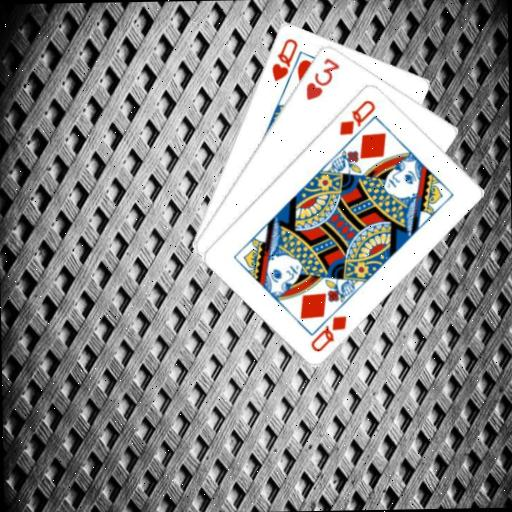3H: (302, 54, 343, 102)
QD: (335, 96, 378, 137), (307, 313, 349, 354)
QH: (268, 35, 300, 83)
